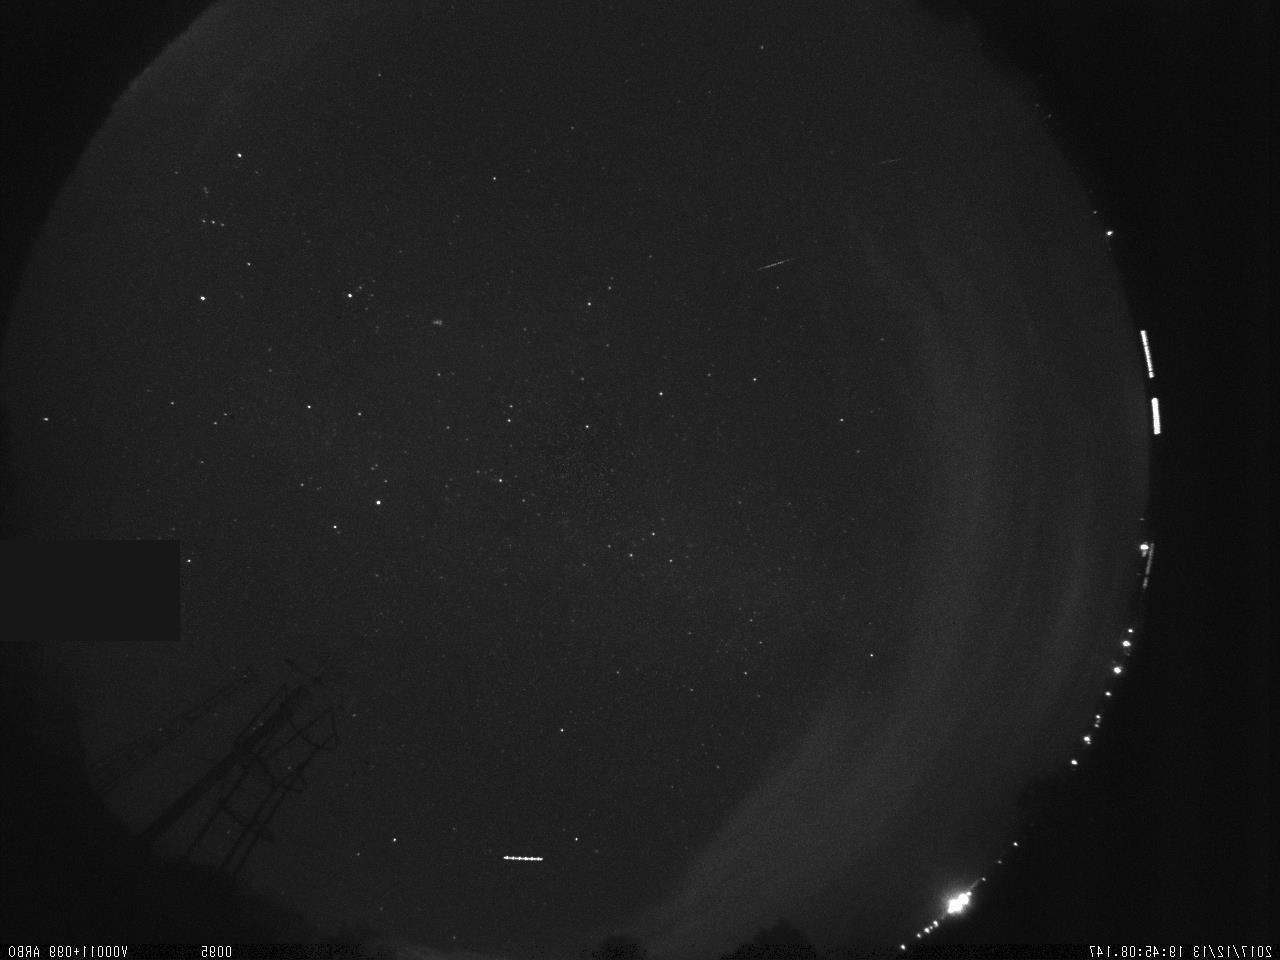meteor: (750, 247, 804, 278)
satelite: (495, 849, 551, 870)
